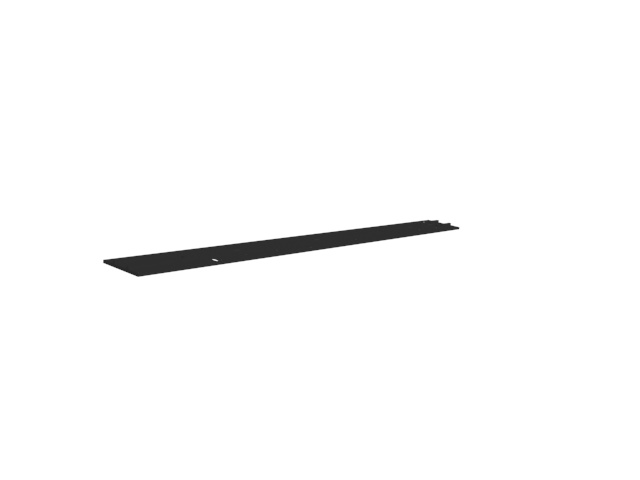ruler: (97, 217, 464, 280)
